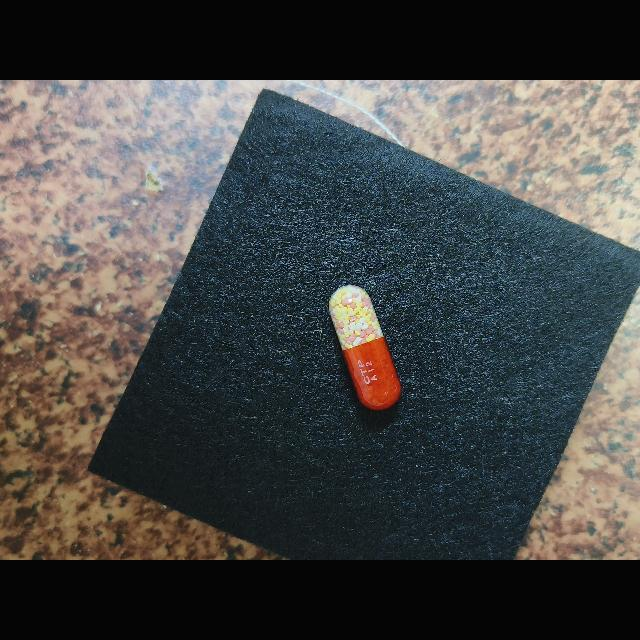Intact Capsule: (329, 285, 402, 410)
